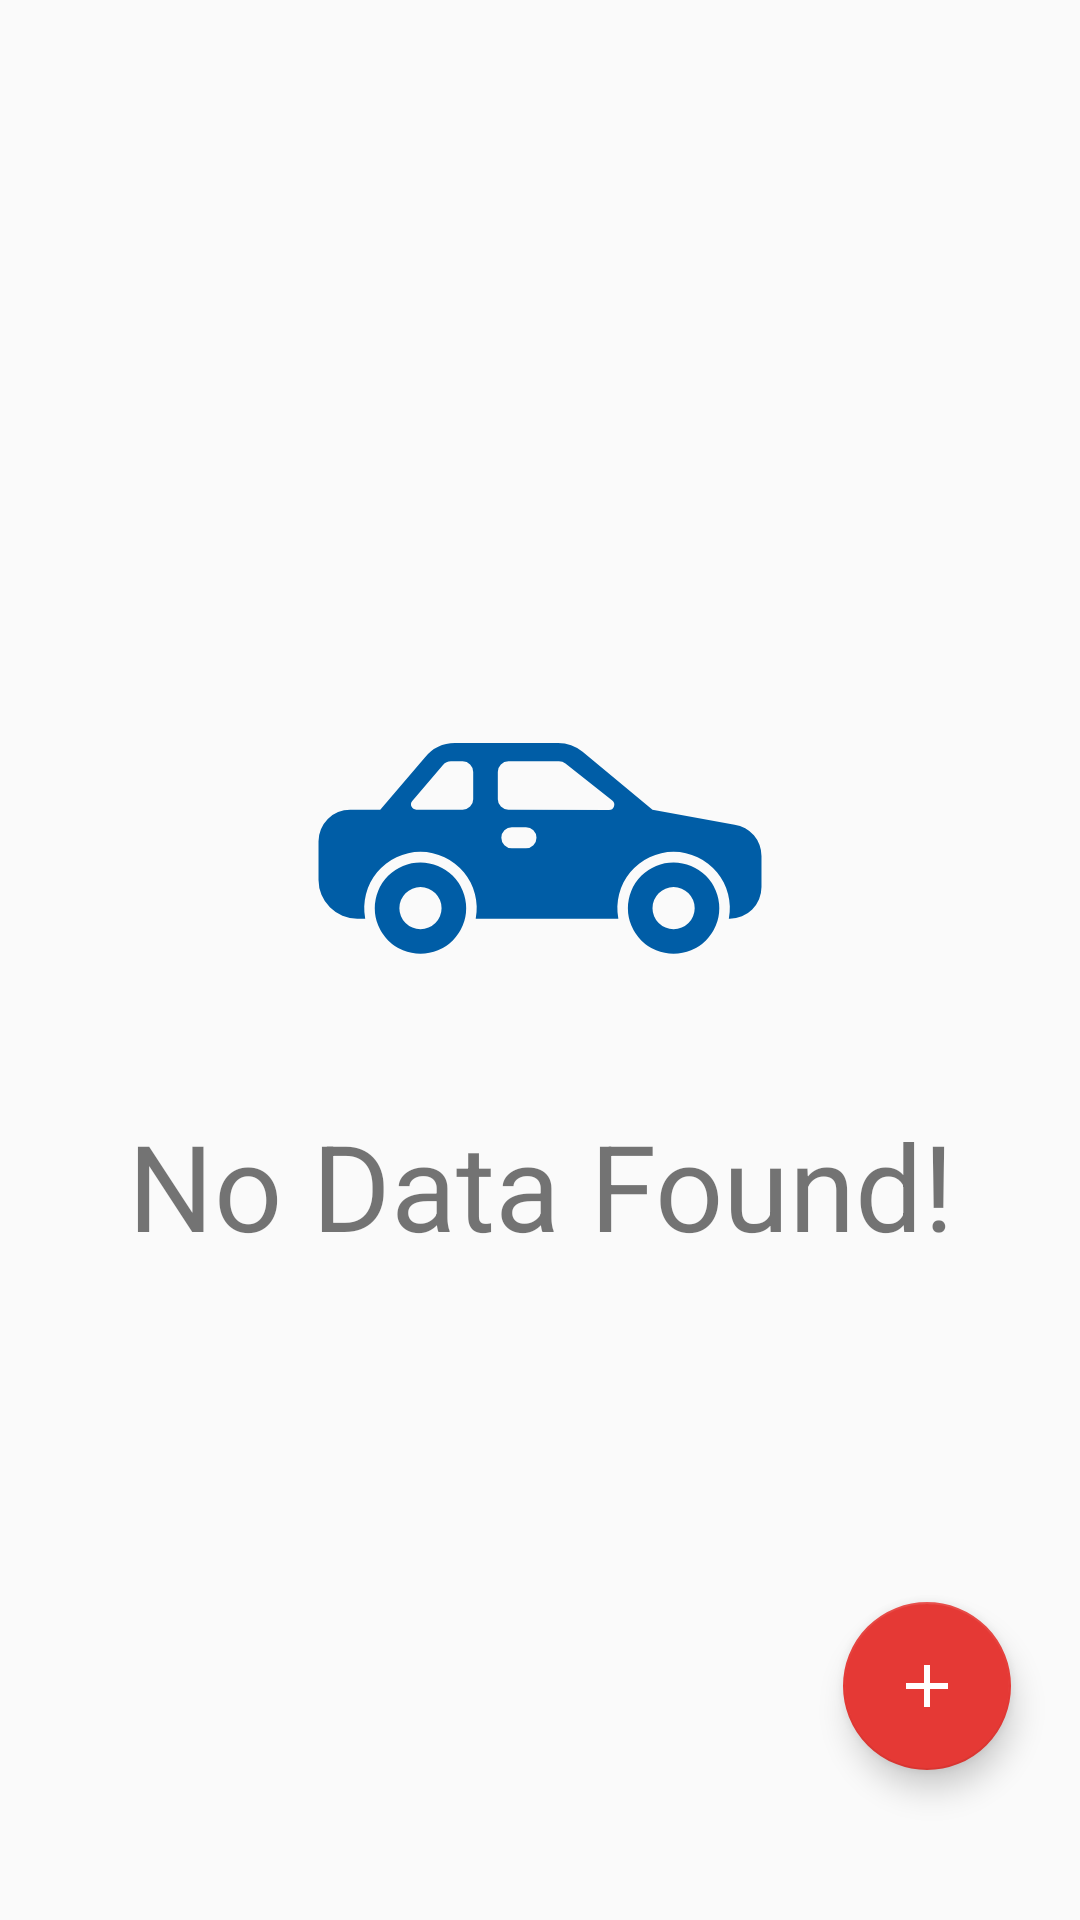

Locate icon controls on the screen. Image size 1080 x 1920, boxes as (x1, y1, x2, y2).
add: (843, 1602, 1011, 1770)
